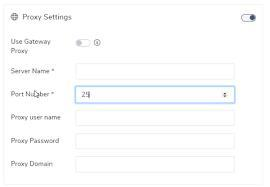icon: (10, 13, 20, 22)
input: (76, 64, 237, 81), (76, 88, 236, 104), (76, 111, 235, 127), (76, 157, 235, 173), (76, 136, 236, 149)
label: (7, 37, 53, 56), (10, 136, 66, 148), (8, 65, 59, 78), (7, 112, 64, 123), (10, 88, 57, 101), (22, 14, 76, 24), (10, 160, 56, 171)
switch: (77, 37, 92, 49), (242, 14, 258, 24)
